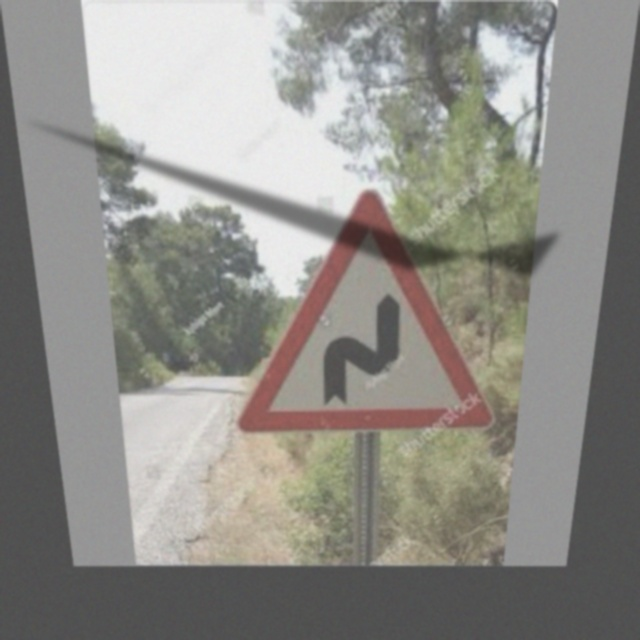Right_Reverse_Bend: (255, 210, 501, 426)
